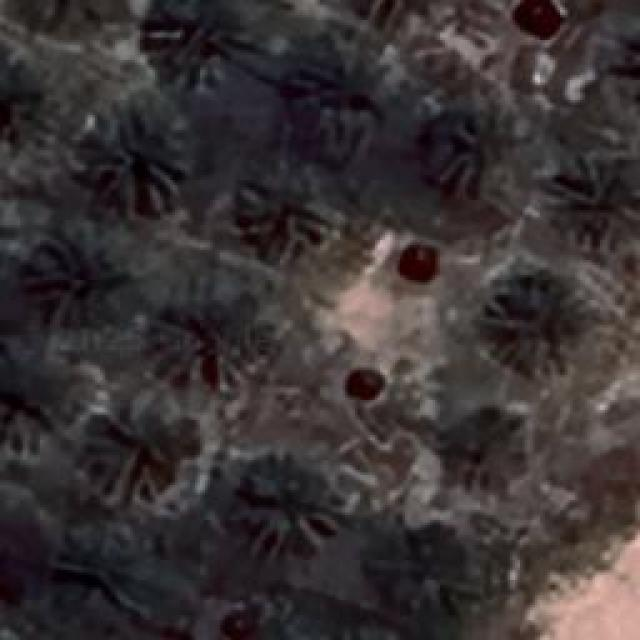PalmTree: (28, 101, 107, 578), (80, 92, 190, 210), (142, 0, 280, 88), (358, 521, 476, 619), (430, 401, 540, 504), (25, 228, 120, 344), (292, 58, 392, 164), (481, 277, 589, 375), (428, 100, 528, 202), (167, 304, 275, 398), (235, 467, 340, 555), (88, 412, 180, 506), (240, 162, 332, 252), (0, 342, 68, 450), (557, 158, 640, 246), (0, 483, 54, 598), (218, 597, 320, 640), (595, 25, 640, 113), (494, 0, 584, 38), (10, 0, 114, 32), (10, 0, 114, 23), (354, 0, 454, 22)
